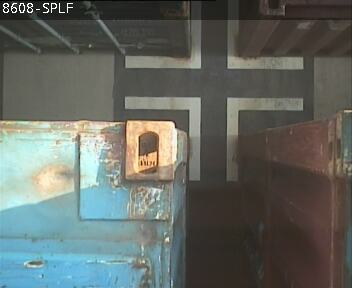groundmarker_1: (123, 95, 302, 180), (124, 1, 303, 68)
